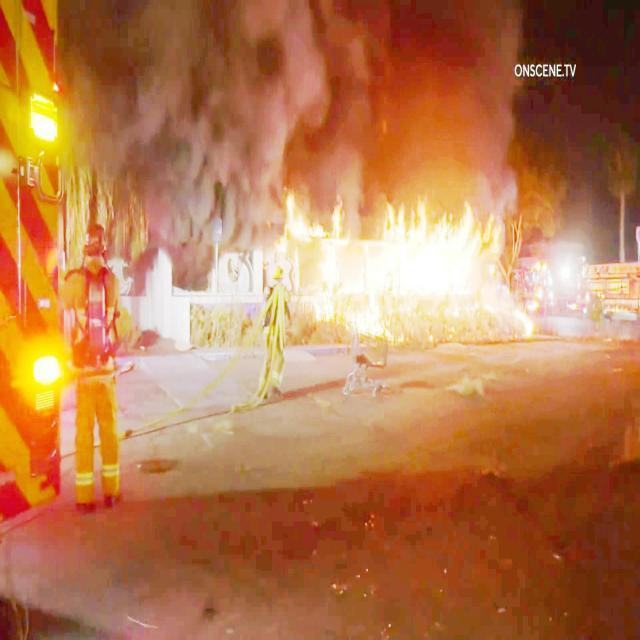Fire: (293, 221, 382, 325), (388, 216, 482, 302)
Smoke: (90, 11, 310, 224), (306, 14, 507, 198)
